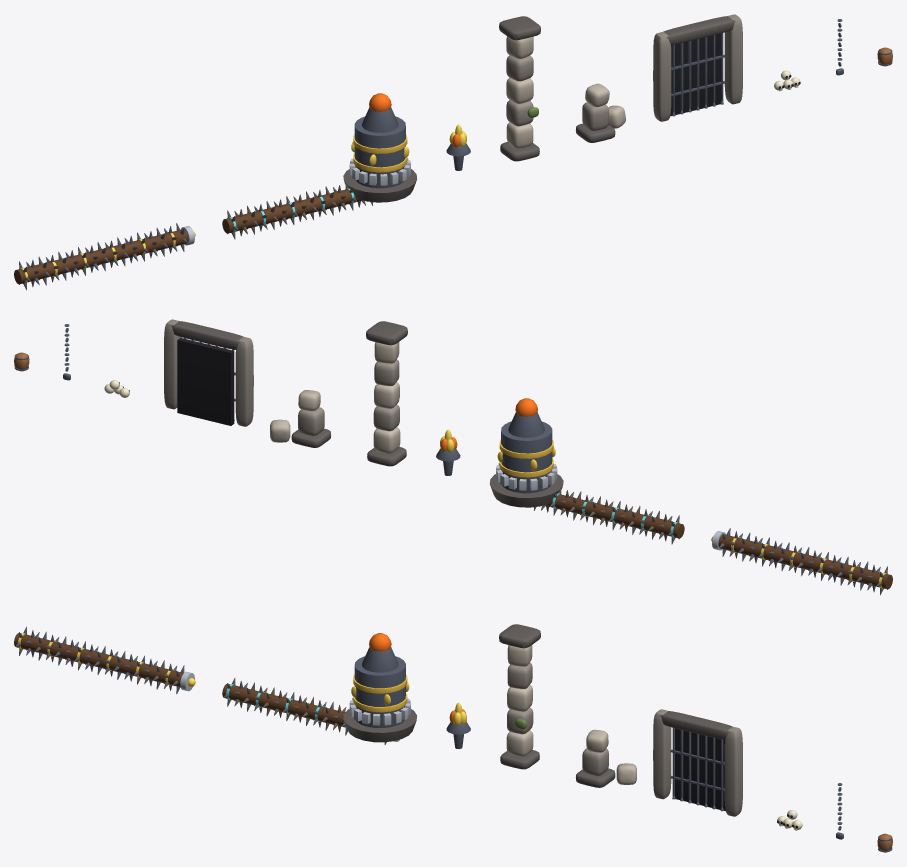
The model's file is Rodillos_Calabozo.fbx.
3 views of the same model, one above another, from view 1: azimuth 30°, elevation 25°; view 2: azimuth 150°, elevation 25°; view 3: azimuth 330°, elevation 25° (orthographic).
Visible parts, largest first — view 1: Reja, Eje_Central, Columna, Rodillo_Bajo, Rodillo_Alto, Columna_Rota; view 2: Reja, Eje_Central, Columna, Rodillo_Bajo, Rodillo_Alto, Columna_Rota; view 3: Reja, Eje_Central, Columna, Rodillo_Bajo, Rodillo_Alto, Columna_Rota, Eje_Central_Brillo.
Boxes of the visible parts, x1=… form: Reja: x1=653, y1=14, x2=742, y2=121; Eje_Central: x1=343, y1=107, x2=417, y2=202; Columna: x1=499, y1=16, x2=540, y2=161; Rodillo_Bajo: x1=14, y1=223, x2=194, y2=290; Rodillo_Alto: x1=222, y1=181, x2=372, y2=239; Columna_Rota: x1=575, y1=83, x2=625, y2=142; Reja: x1=164, y1=319, x2=253, y2=426; Eje_Central: x1=489, y1=412, x2=563, y2=507; Columna: x1=366, y1=321, x2=407, y2=466; Rodillo_Bajo: x1=712, y1=528, x2=892, y2=595; Rodillo_Alto: x1=534, y1=486, x2=684, y2=544; Columna_Rota: x1=270, y1=390, x2=331, y2=447; Reja: x1=653, y1=709, x2=742, y2=816; Eje_Central: x1=343, y1=647, x2=416, y2=742; Columna: x1=499, y1=624, x2=540, y2=769; Rodillo_Bajo: x1=14, y1=626, x2=194, y2=694; Rodillo_Alto: x1=222, y1=678, x2=399, y2=744; Columna_Rota: x1=575, y1=729, x2=636, y2=787; Eje_Central_Brillo: x1=351, y1=633, x2=409, y2=705.
Size of the model in its own units: 48.85 by 7.73 by 3.6.
Materials: 2 (2 with a texture image).
